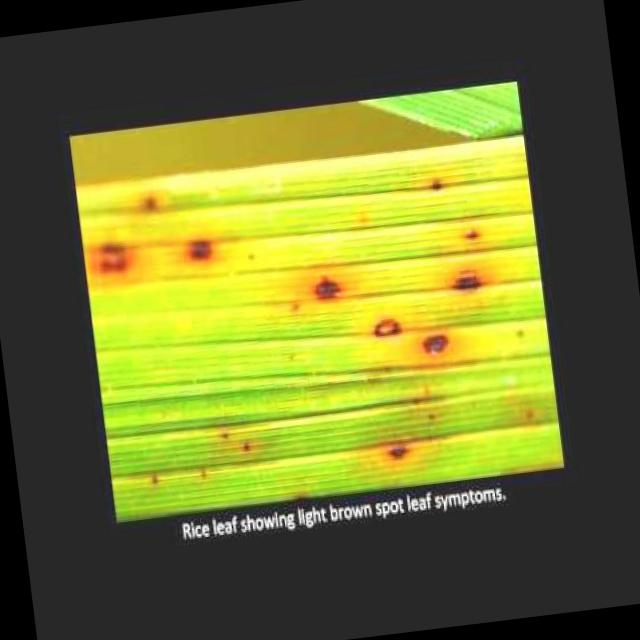Rice_Brownspot: (286, 241, 361, 320), (79, 216, 153, 292), (164, 210, 235, 280), (368, 424, 434, 470), (404, 314, 462, 361), (449, 250, 495, 304), (364, 302, 412, 344), (416, 159, 454, 204), (131, 187, 170, 216), (454, 215, 486, 248)
